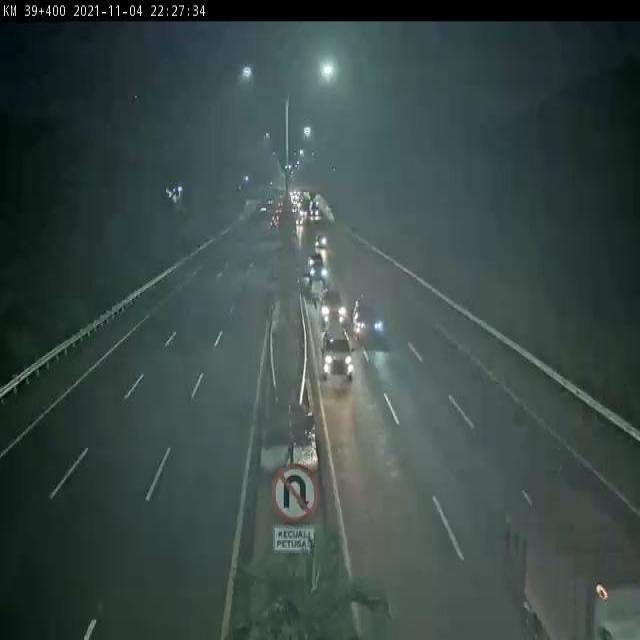car: (321, 326, 354, 378), (352, 298, 386, 342), (319, 289, 349, 327)
truck-s-: (521, 473, 640, 640)
